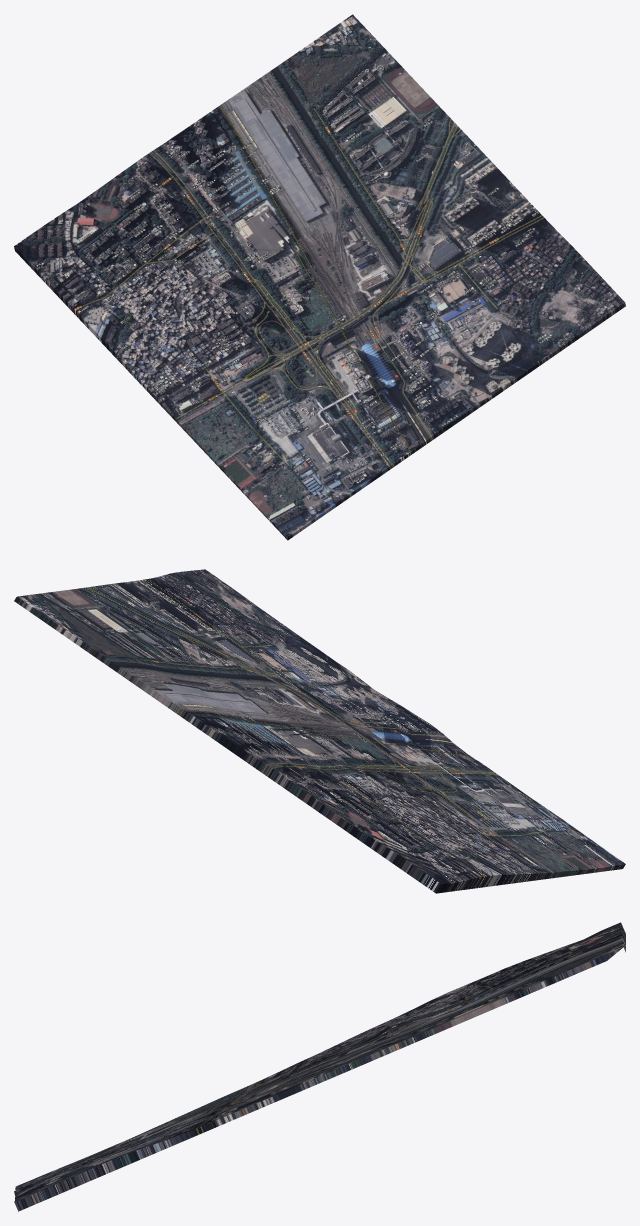
3 views of the same model, one above another, from view 1: azimuth 30°, elevation 25°; view 2: azimuth 150°, elevation 25°; view 3: azimuth 270°, elevation 25° (orthographic). The views are drawn at different scales.
Parts seen in each view (by area): view 1: 1_9_2; view 2: 1_9_2; view 3: 1_9_2.
Boxes of the visible parts, x1,y1,x2,y2 form: 1_9_2: (14,14,625,540); 1_9_2: (14,569,625,893); 1_9_2: (14,922,625,1211).
Bounding box in the file's own units: 1231 × 892 × 1127.
1 material, 1 textured.
